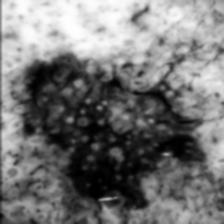Potentially Malignant Skin Tumors: (22, 51, 204, 214)
